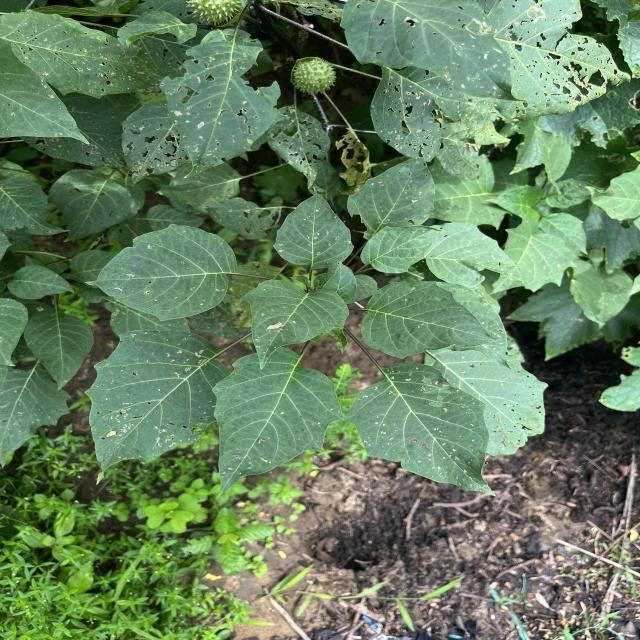Datura metal linn: (83, 328, 233, 488), (344, 360, 499, 498), (210, 346, 346, 498), (81, 221, 242, 324), (358, 279, 504, 361), (238, 278, 350, 372), (270, 184, 356, 271), (359, 224, 444, 275)
